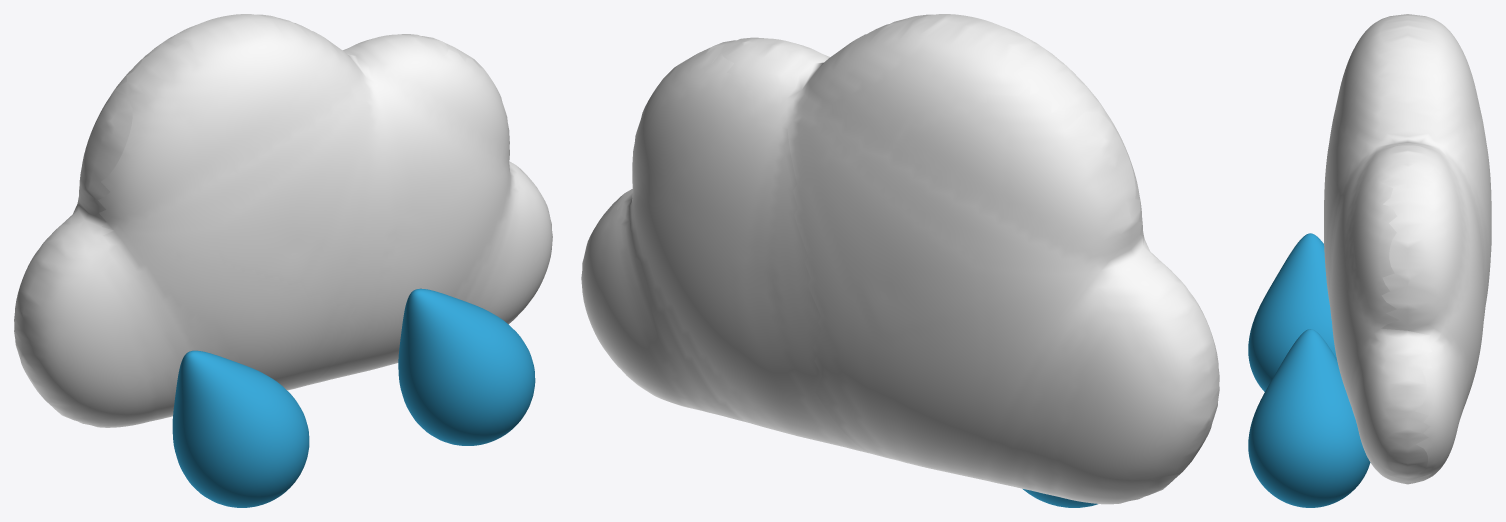
The model's file is Rain.glb.
3 renders of one model, left to right at view 1: azimuth 30°, elevation 25°; view 2: azimuth 150°, elevation 25°; view 3: azimuth 270°, elevation 25°, orthographic. The views are drawn at different scales.
Visible parts, largest first — view 1: Object_39, node_id210_49, node_id158_40; view 2: Object_39; view 3: Object_39, node_id210_49, node_id158_40.
Part boxes in pixels (left/top/right/bottom): Object_39: left=14, top=14, right=552, bottom=427; node_id210_49: left=398, top=288, right=535, bottom=445; node_id158_40: left=172, top=350, right=309, bottom=507; Object_39: left=581, top=14, right=1219, bottom=504; Object_39: left=1324, top=14, right=1491, bottom=484; node_id210_49: left=1248, top=329, right=1370, bottom=507; node_id158_40: left=1248, top=233, right=1336, bottom=391.
Bounding box in the file's own units: 0.1453 × 0.1139 × 0.0632.
Materials: 2 (2 with a texture image).
